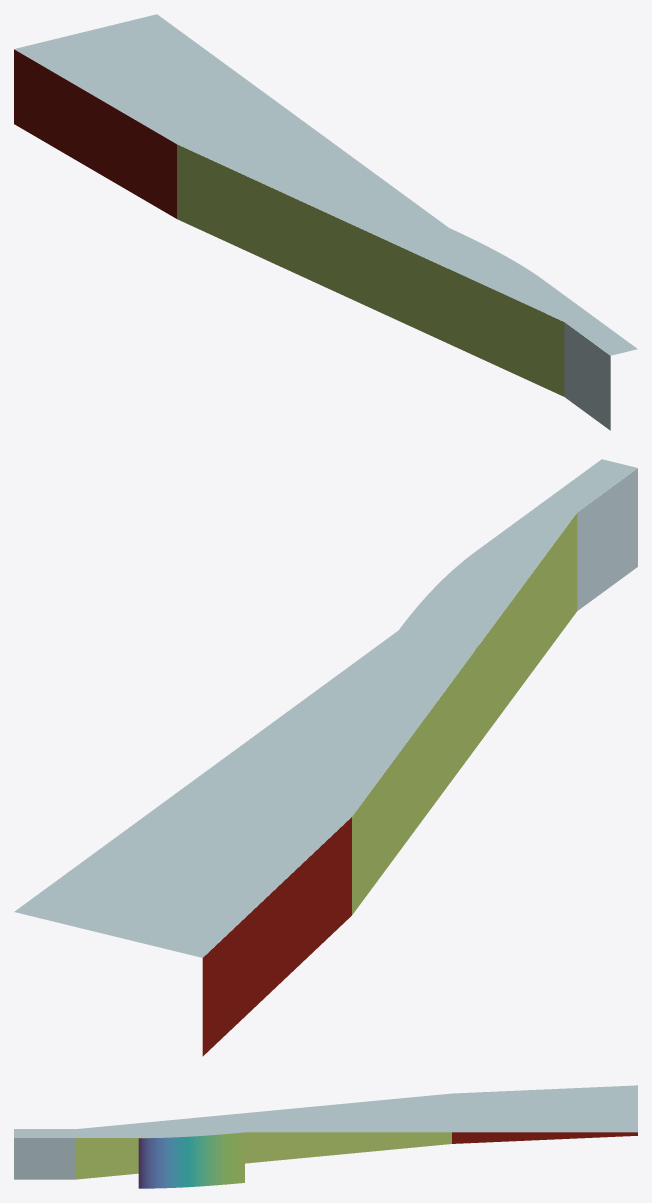
Rendered from scramjet_n2_m50.glb.
3 views of the same model, one above another, from view 1: azimuth 30°, elevation 25°; view 2: azimuth 150°, elevation 25°; view 3: azimuth 270°, elevation 25° (orthographic). The views are drawn at different scales.
Parts seen in each view (by area): view 1: mesh0; view 2: mesh0; view 3: mesh0.
Part boxes in pixels (x1,y1,x2,y2): mesh0: [14, 14, 637, 430]; mesh0: [14, 459, 637, 1056]; mesh0: [14, 1085, 637, 1188].
Bounding box in the file's own units: 1.12 × 0.5005 × 5.61.
